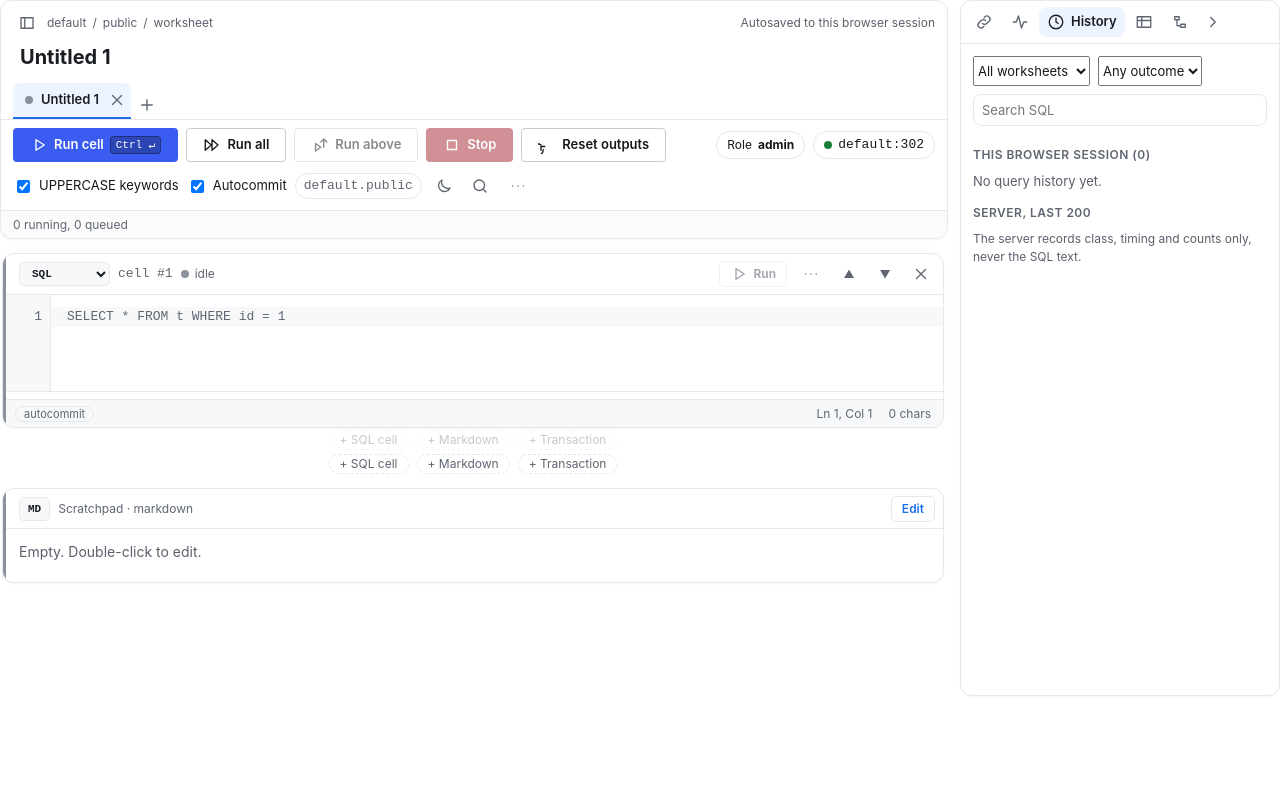
Scenario: guided results and errors › shows the CREATE DATABASE refusal verbatim as a 400
Type "CREATE DATABASE sales" into the text box named "Cell 1 SQL". click: x=497, y=343
box: [51, 295, 943, 391]
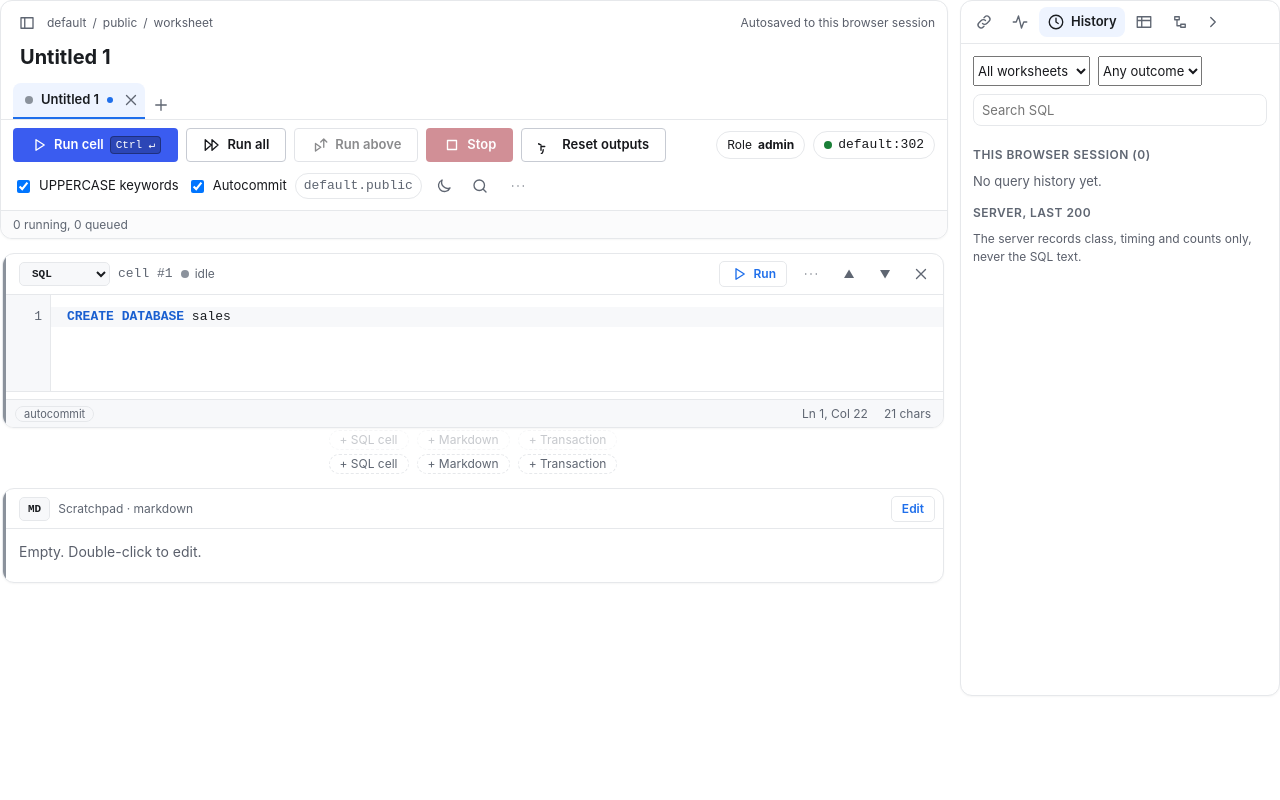
Click the button with aria-label "Run cell 1". click: x=753, y=274
box: [720, 261, 787, 287]
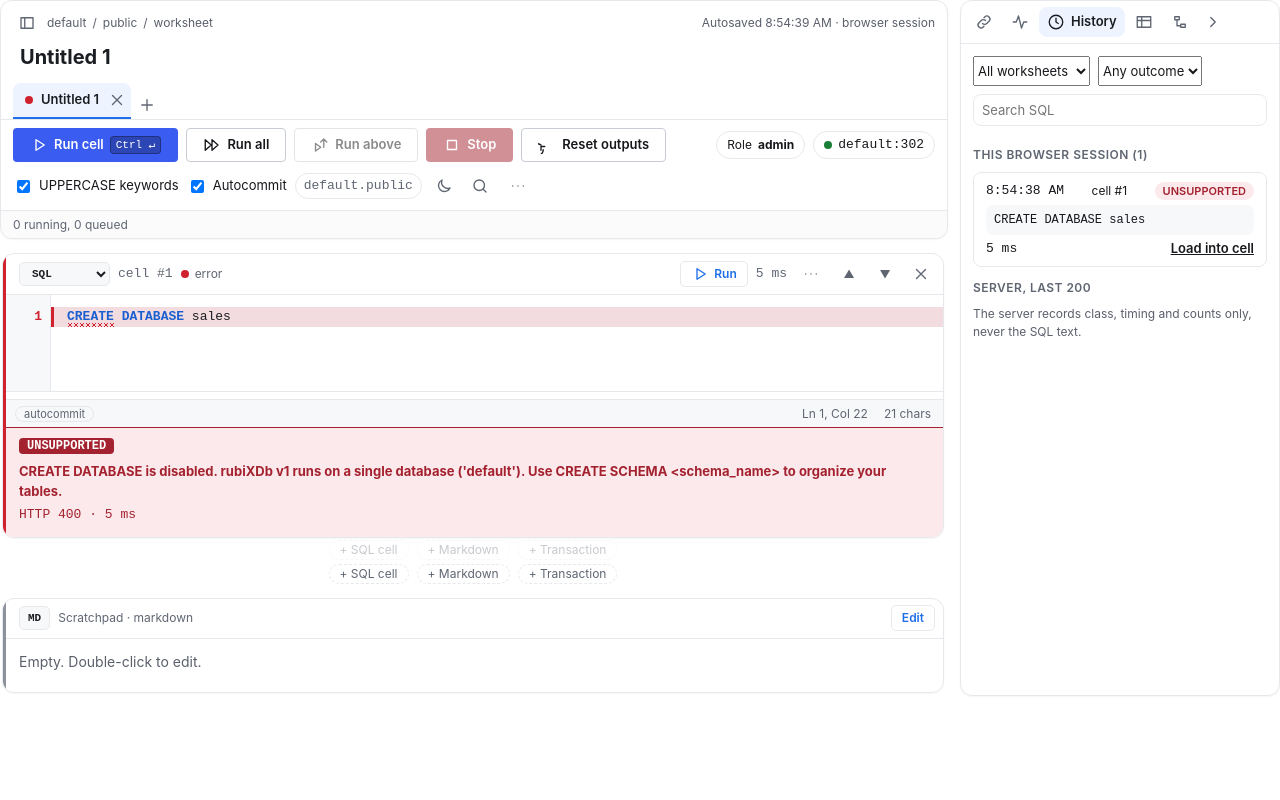
Now the message that starts with "UNSUPPORTED" shows "CREATE DATABASE is disabled. rubiXDb v1 runs on a single database ('default'). Use CREATE SCHEMA <schema_name> to organize your tables.", box [19, 463, 886, 498]
Now the message that starts with "UNSUPPORTED" shows "HTTP 400", box [19, 507, 81, 522]
